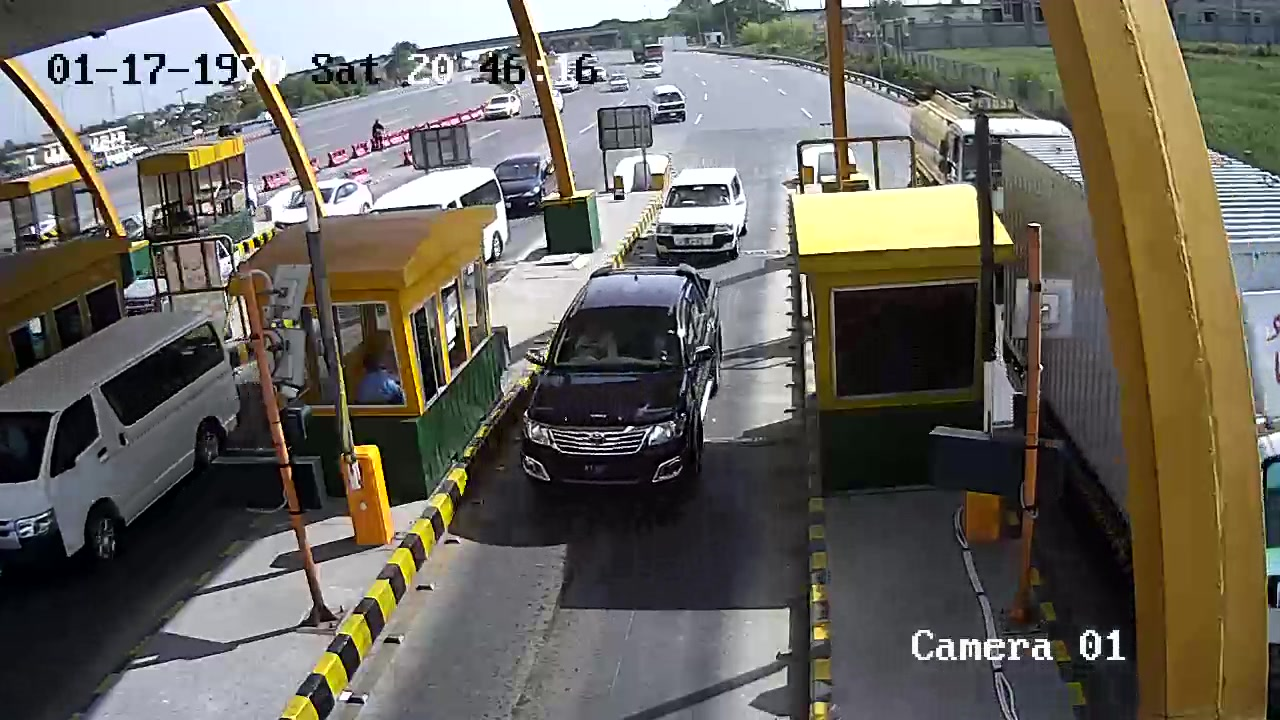F1: (516, 260, 730, 501)
